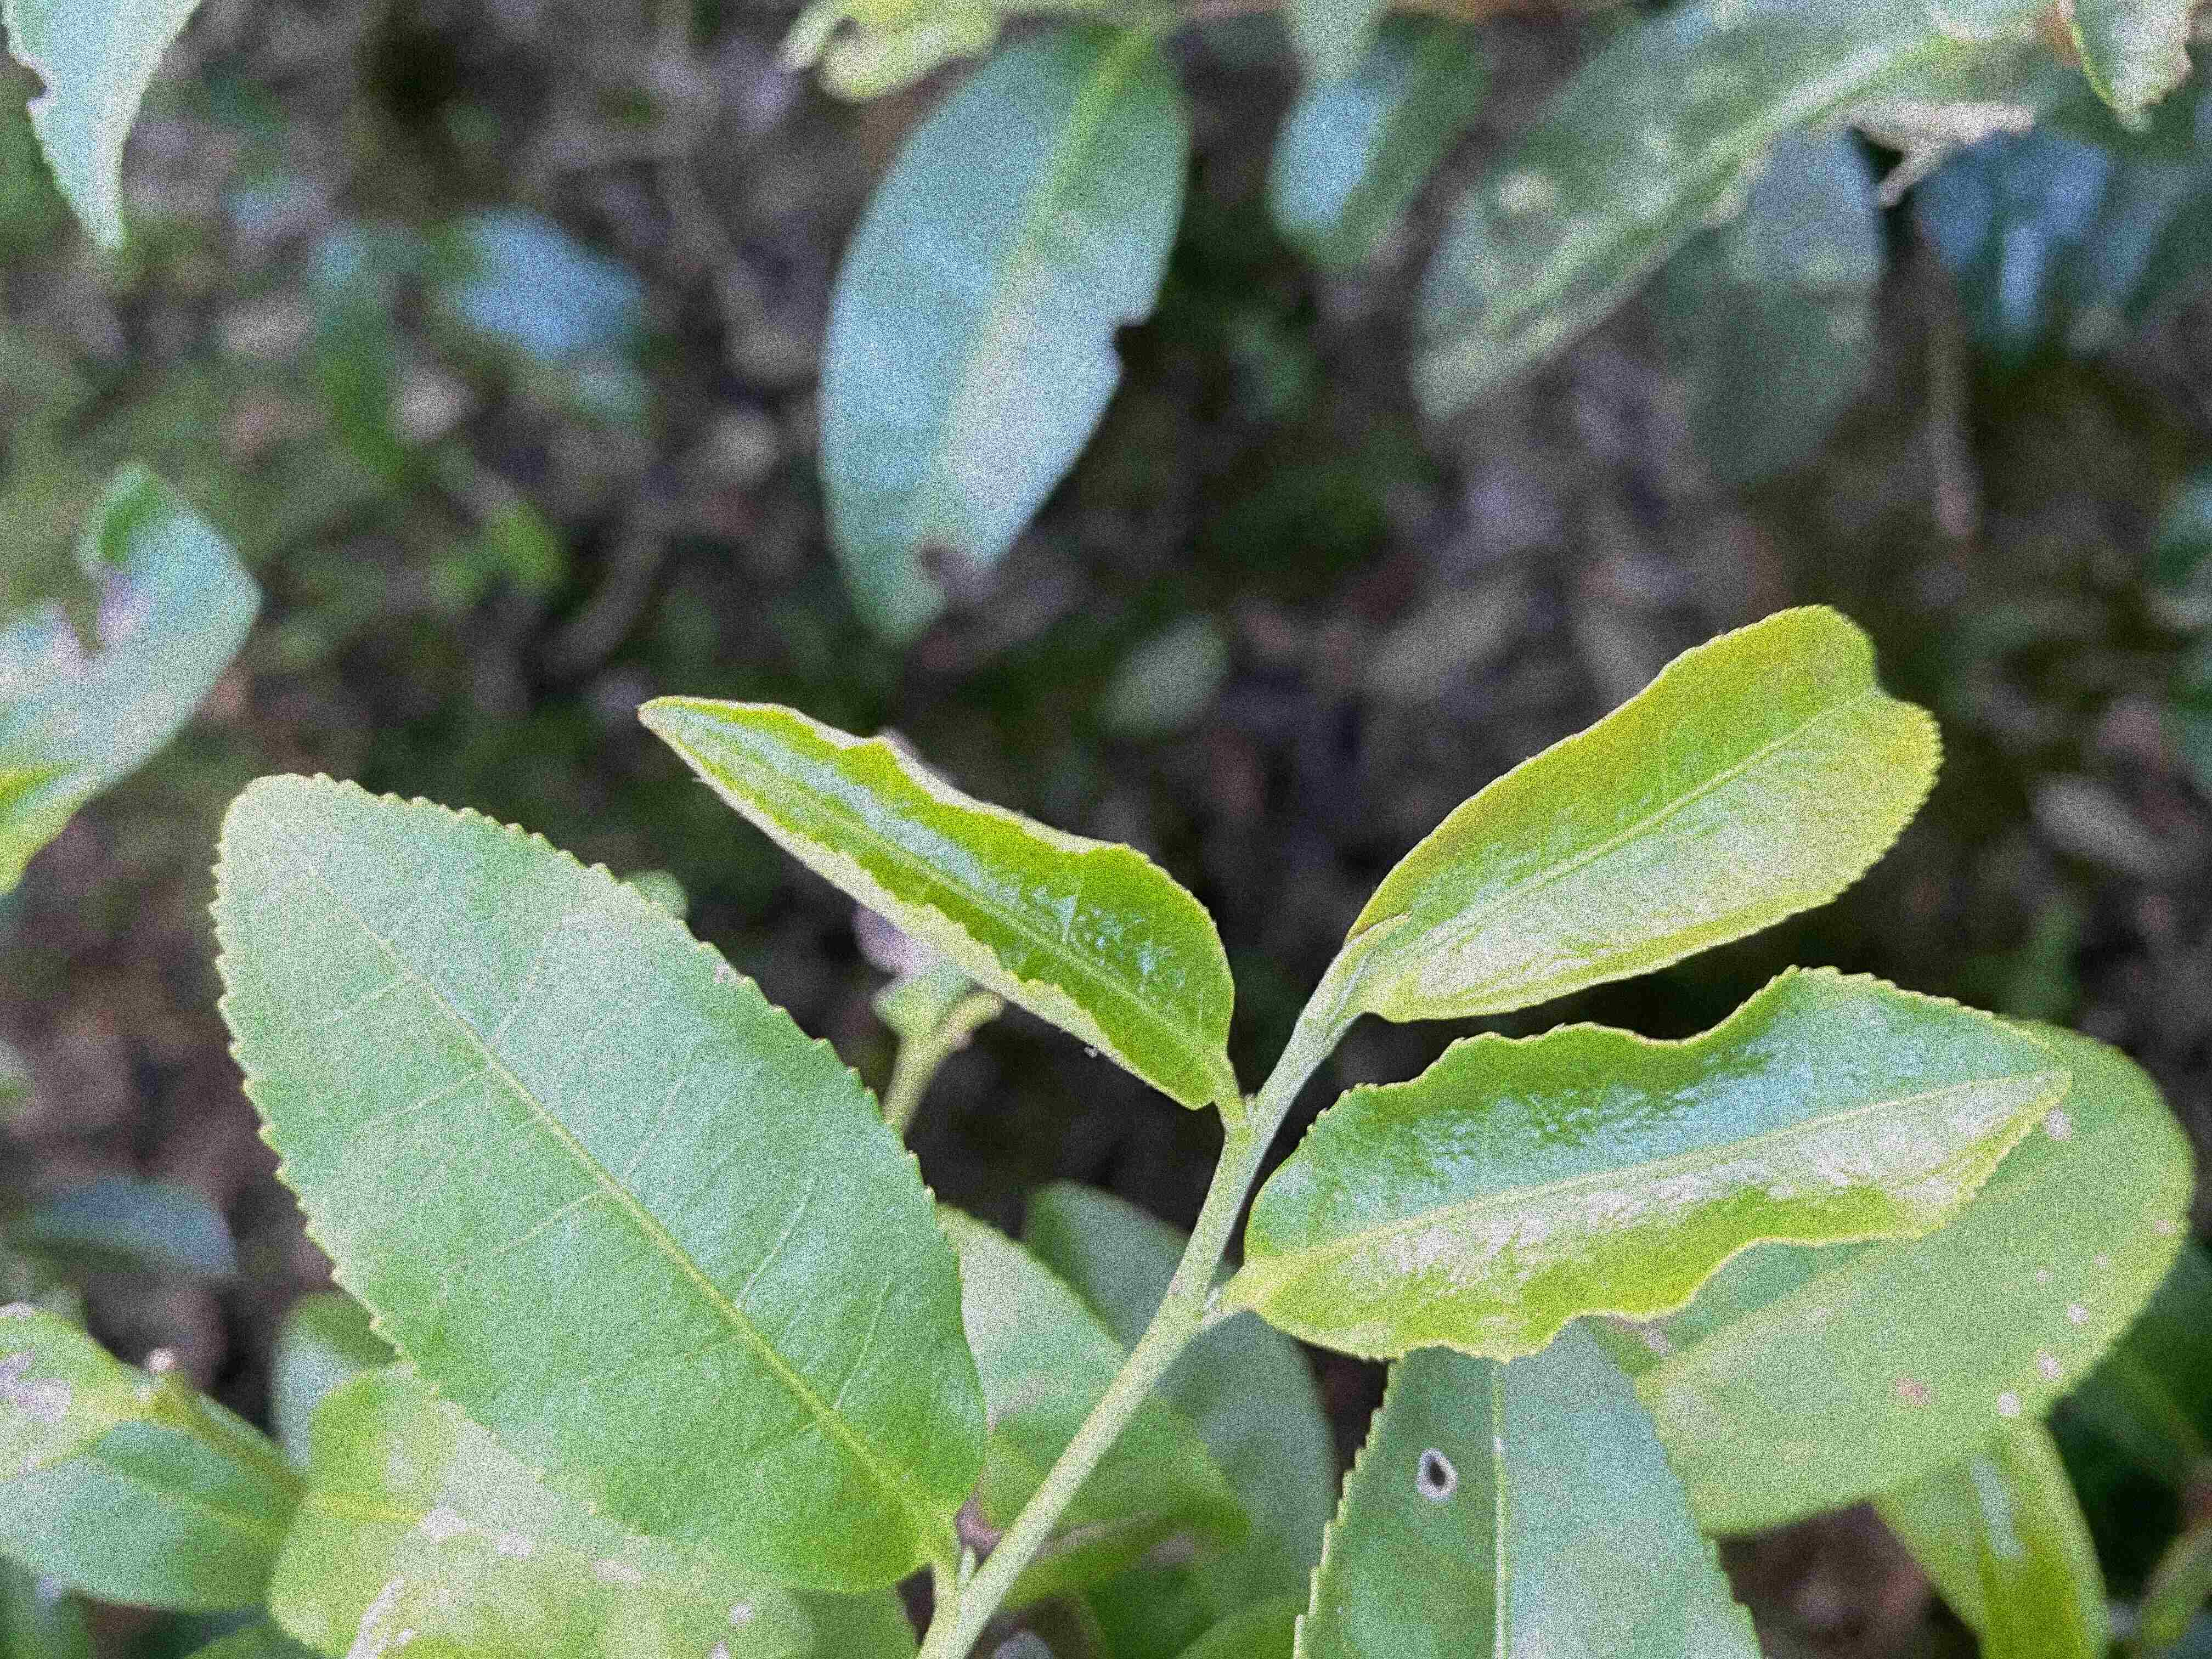chihuo_high: (808, 21, 1193, 653)
chihuo_low: (1287, 1317, 1768, 1657)
healthy: (207, 769, 1000, 1591), (1240, 957, 2076, 1361), (1345, 599, 1947, 1021), (637, 694, 1240, 1112)
tanju_high: (265, 1364, 822, 1657)
